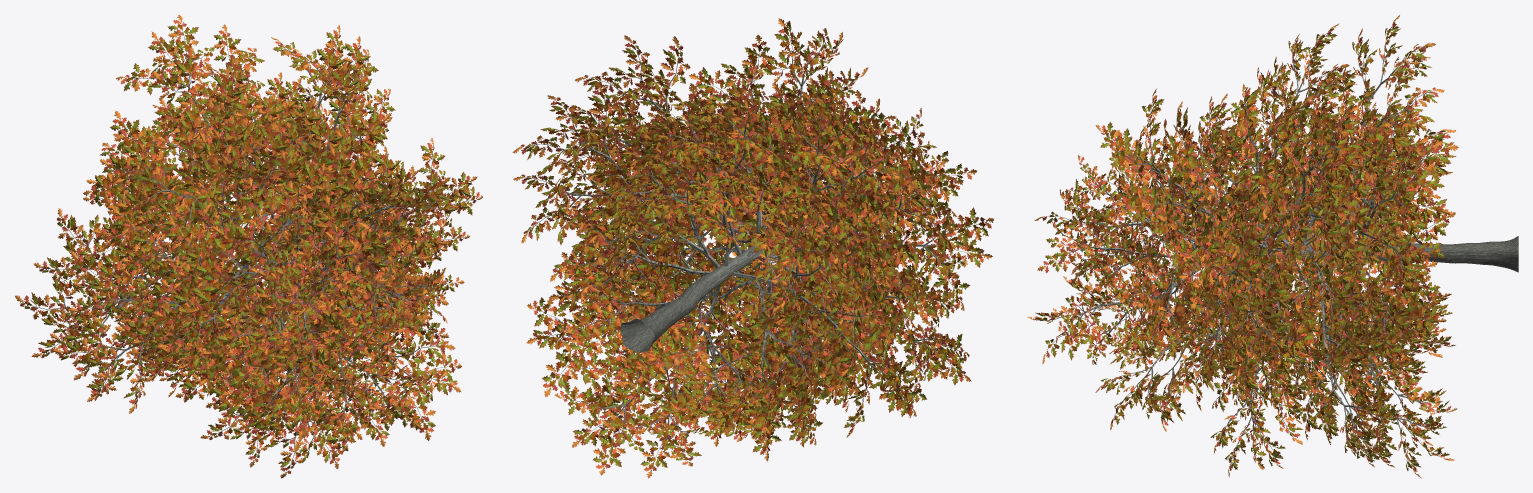
The model's file is oak_autumn.obj.
3 views of the same model, side by side, from view 1: azimuth 30°, elevation 25°; view 2: azimuth 150°, elevation 25°; view 3: azimuth 270°, elevation 25° (orthographic). The views are drawn at different scales.
Visible parts, largest first — view 1: cgaxis_models_115_37_01, cgaxis_models_115_37_02, cgaxis_models_115_37_03; view 2: cgaxis_models_115_37_01, cgaxis_models_115_37_02, cgaxis_models_115_37_03, cgaxis_models_115_37_04; view 3: cgaxis_models_115_37_01, cgaxis_models_115_37_02, cgaxis_models_115_37_03, cgaxis_models_115_37_04.
Boxes of the visible parts, x1,y1,x2,y2 form: cgaxis_models_115_37_01: (24,24,475,469); cgaxis_models_115_37_02: (15,15,482,478); cgaxis_models_115_37_03: (28,27,473,467); cgaxis_models_115_37_01: (524,21,988,468); cgaxis_models_115_37_02: (512,18,993,478); cgaxis_models_115_37_03: (529,34,978,459); cgaxis_models_115_37_04: (620,226,790,352); cgaxis_models_115_37_01: (1034,26,1456,470); cgaxis_models_115_37_02: (1028,15,1458,478); cgaxis_models_115_37_03: (1040,34,1443,465); cgaxis_models_115_37_04: (1222,236,1518,272).
Size of the model in its own units: 16.79 by 16.69 by 17.54.
Materials: 4 (4 with a texture image).
